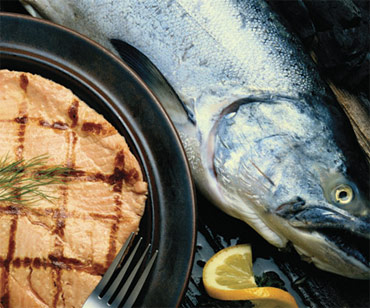fish: (19, 1, 368, 280)
